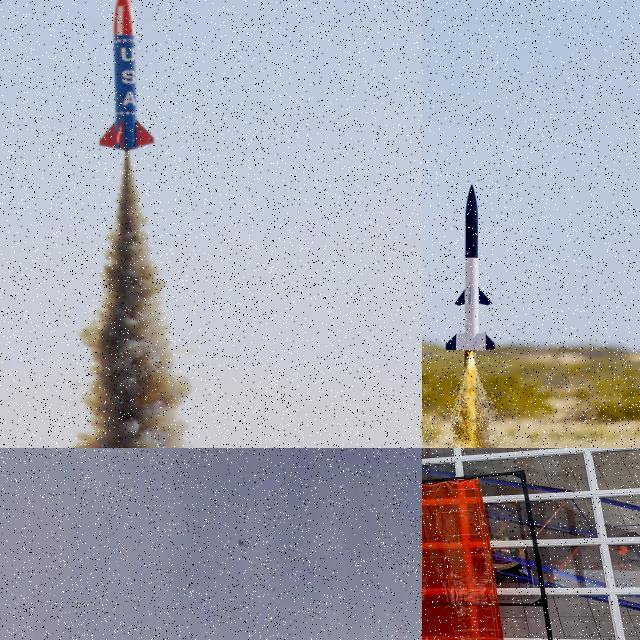Rocket: (444, 183, 497, 352), (98, 0, 156, 151), (238, 540, 250, 548)
